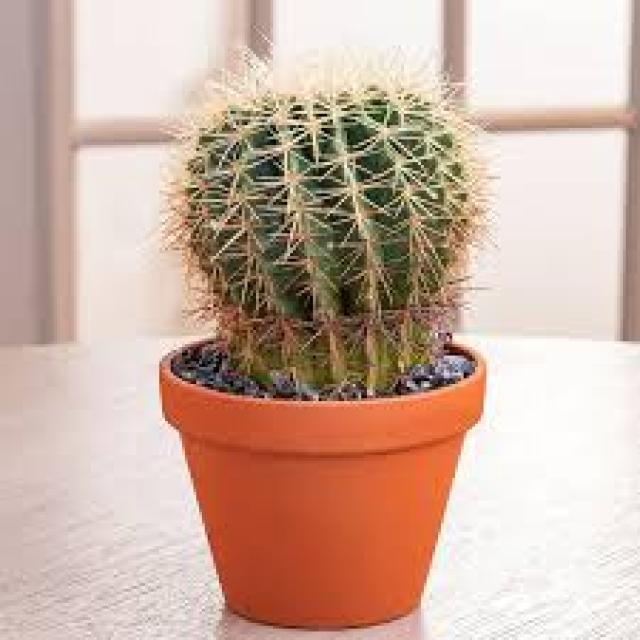cactus: (149, 20, 515, 336)
